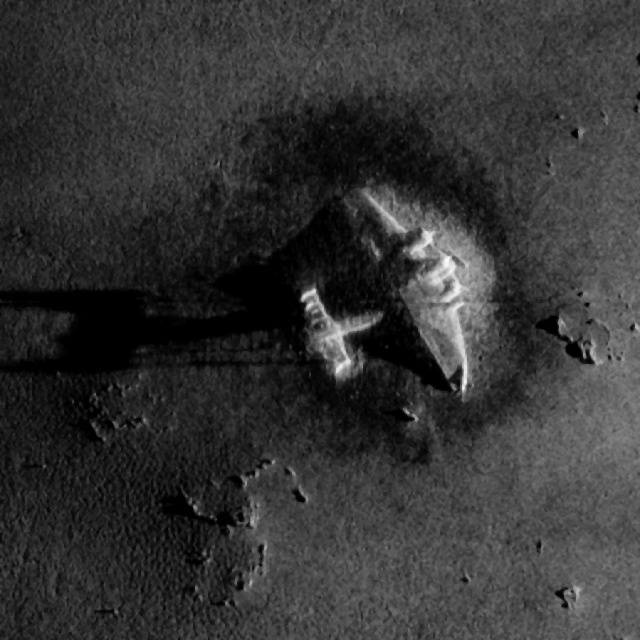Plane: (294, 178, 481, 408)
